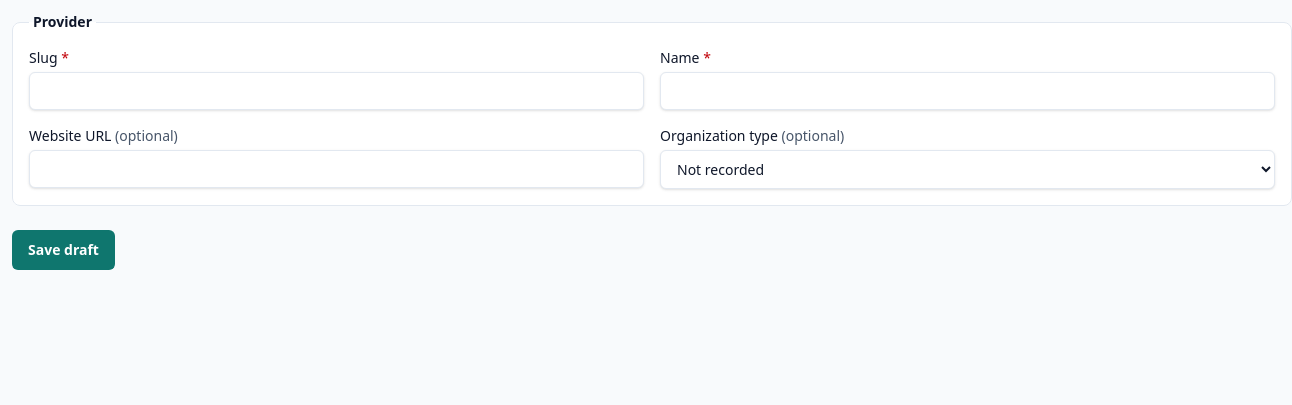
Test: DraftForm › shows server field errors and keeps what was typed
Step 1. Type "test-provider-labs" into the field labelled "Slug *" → (336, 91), box [29,72,644,110]
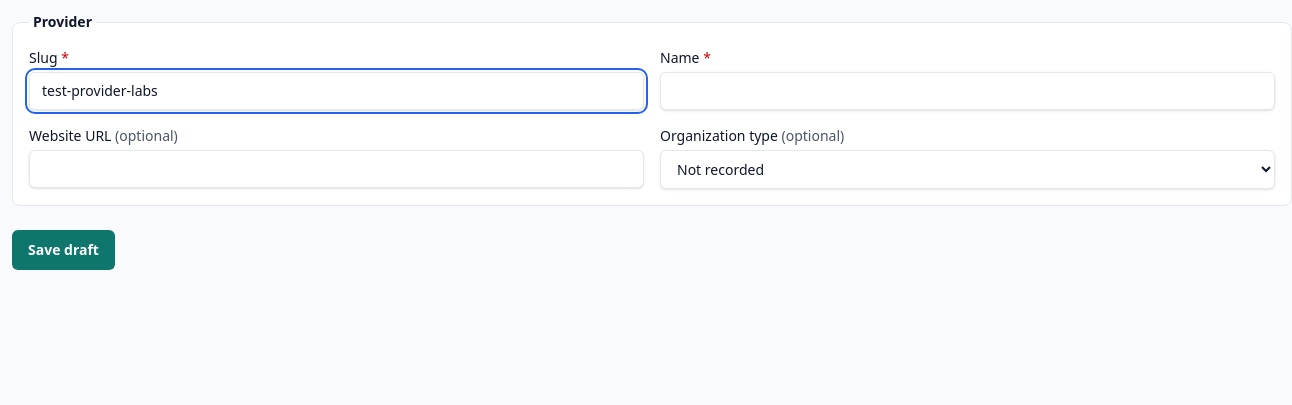
Step 2. Type "Test Provider Labs" into the field labelled "Name *" → (968, 91), box [660,72,1275,110]
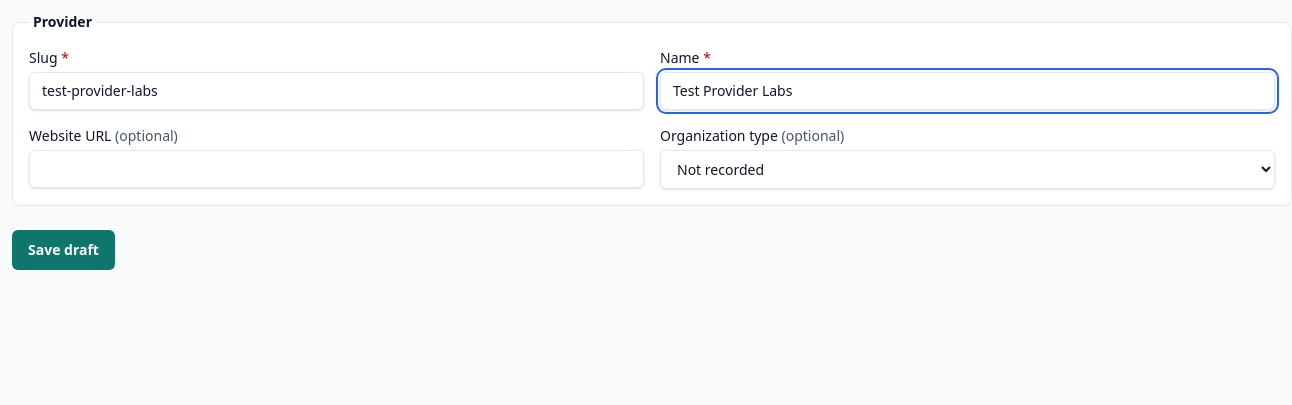
Step 3. Click the button "Save draft" → (64, 250), box [12,230,115,270]
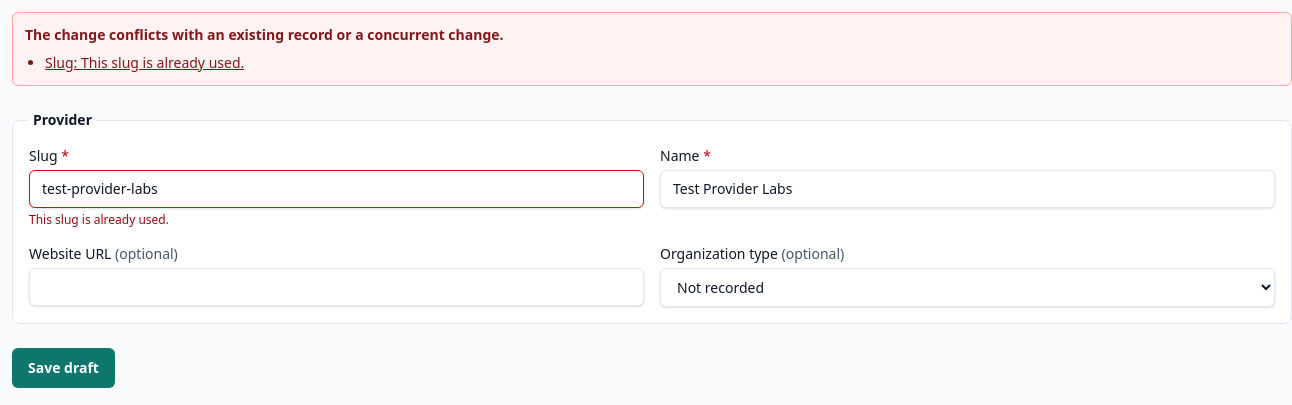
expect the message shows "conflicts with an existing record": met, box [25,25,504,44]
expect the link "Slug: This slug is already used." is shown: met, box [45,53,244,72]
